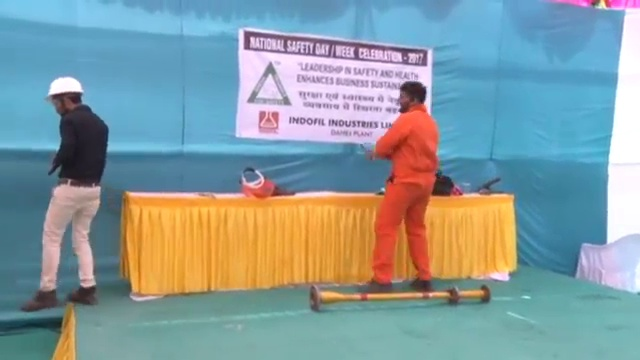helmet: (44, 75, 84, 100)
helmet_off: (397, 82, 426, 113)
helmet_on: (43, 74, 84, 117)
person: (26, 74, 110, 310), (374, 81, 441, 293)
